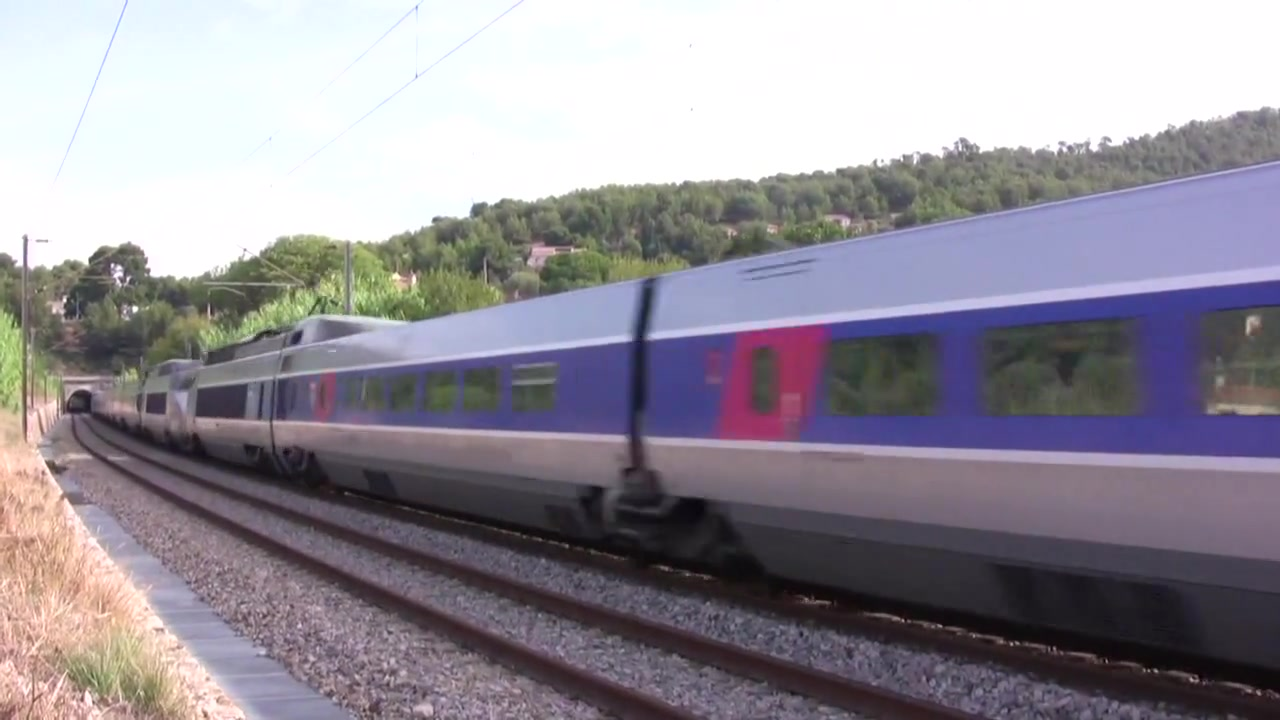train: (85, 161, 1280, 686)
